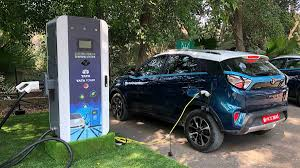Tata Nexon: (108, 46, 290, 155)
